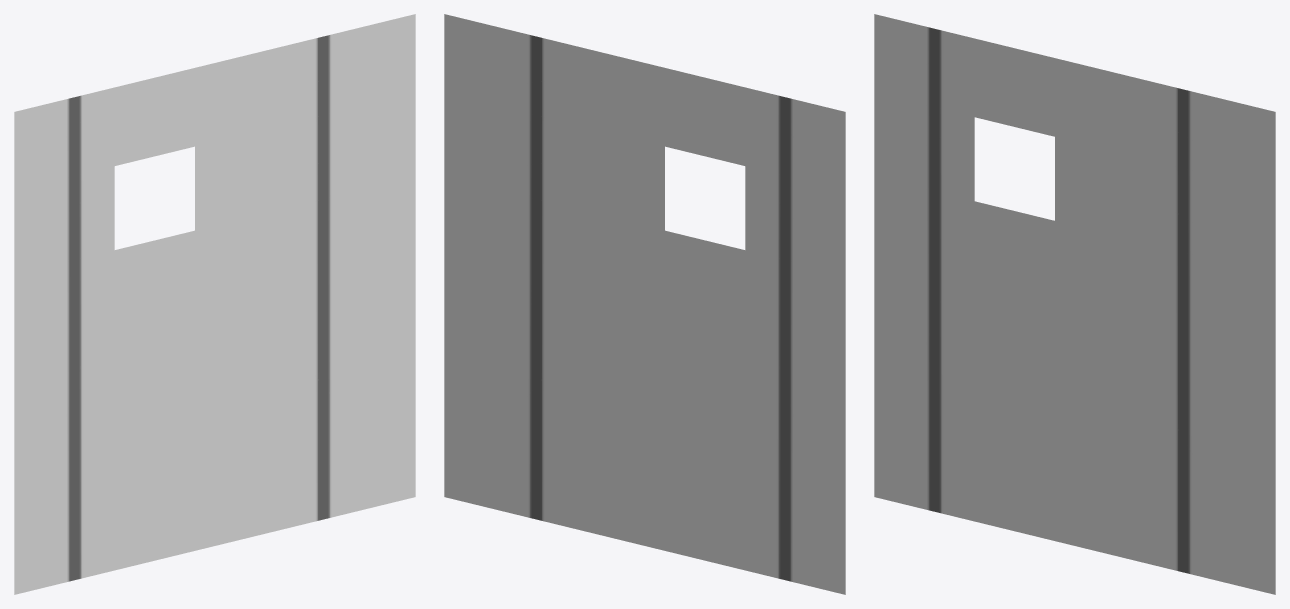
File: SM_WallPlaneHole_Var1_200x230.fbx
The picture shows the model from 3 angles, left to right: view 1: azimuth 30°, elevation 25°; view 2: azimuth 150°, elevation 25°; view 3: azimuth 330°, elevation 25°; orthographic projection.
Parts seen in each view (by area): view 1: WallPlaneHole_Var1_200x230; view 2: WallPlaneHole_Var1_200x230; view 3: WallPlaneHole_Var1_200x230.
Boxes of the visible parts, left/top/right/bottom form: WallPlaneHole_Var1_200x230: left=14, top=14, right=415, bottom=594; WallPlaneHole_Var1_200x230: left=444, top=14, right=845, bottom=594; WallPlaneHole_Var1_200x230: left=874, top=14, right=1275, bottom=594.
Bounding box in the file's own units: 200 × 230 × 7.96e-13.
